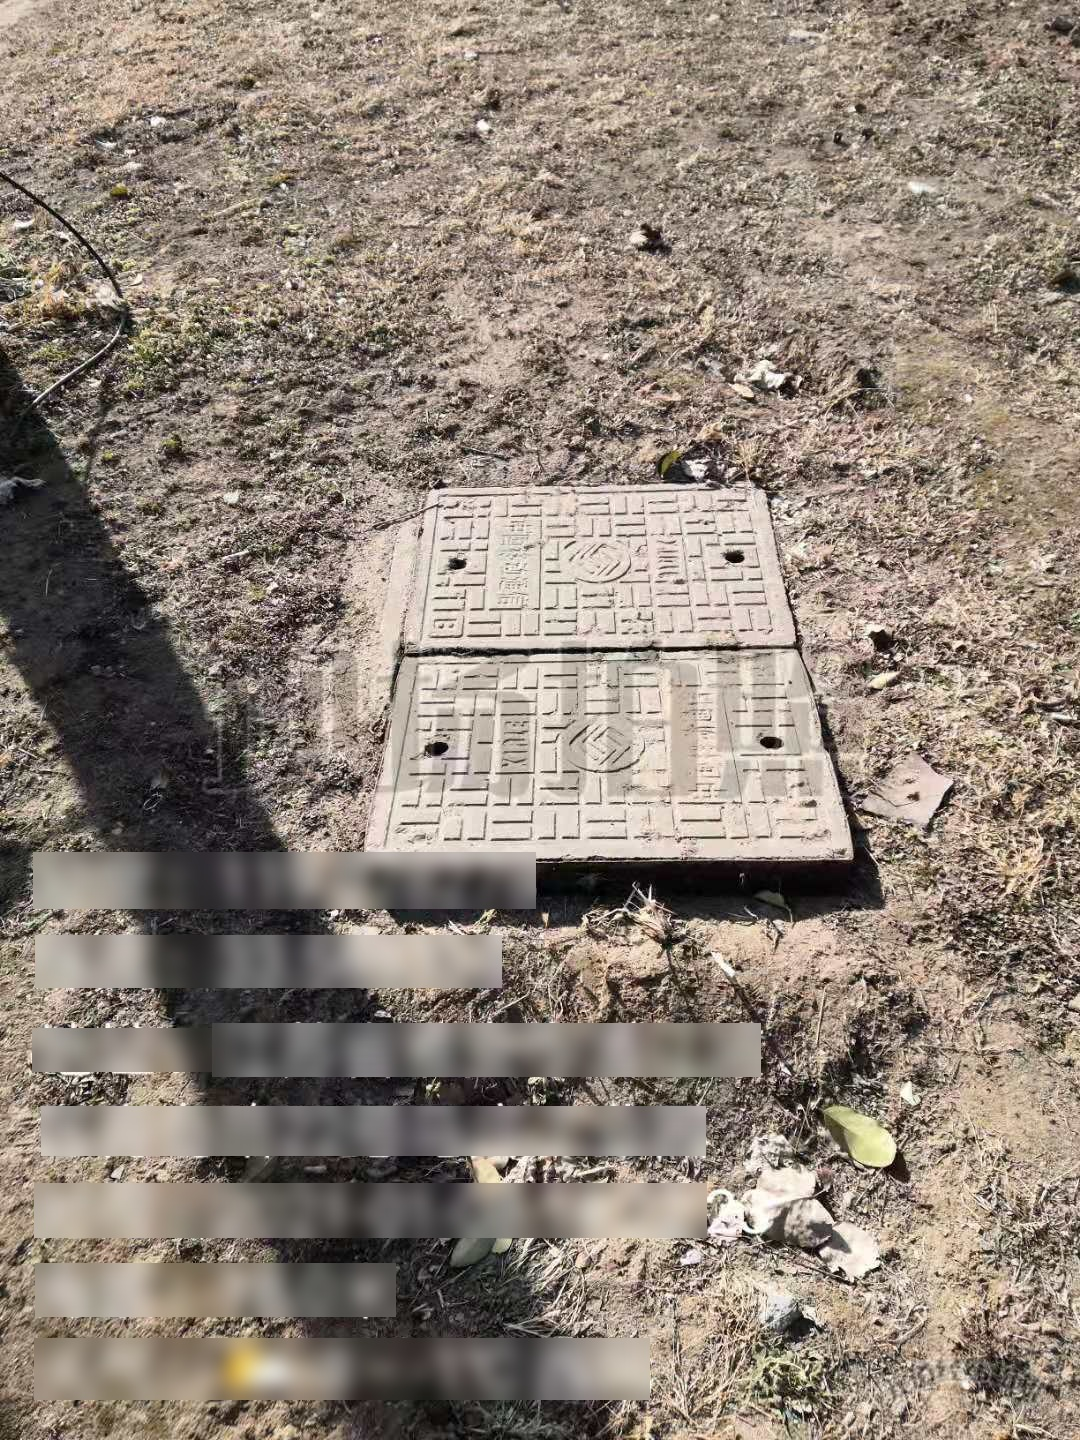uncovered: (366, 483, 869, 903)
